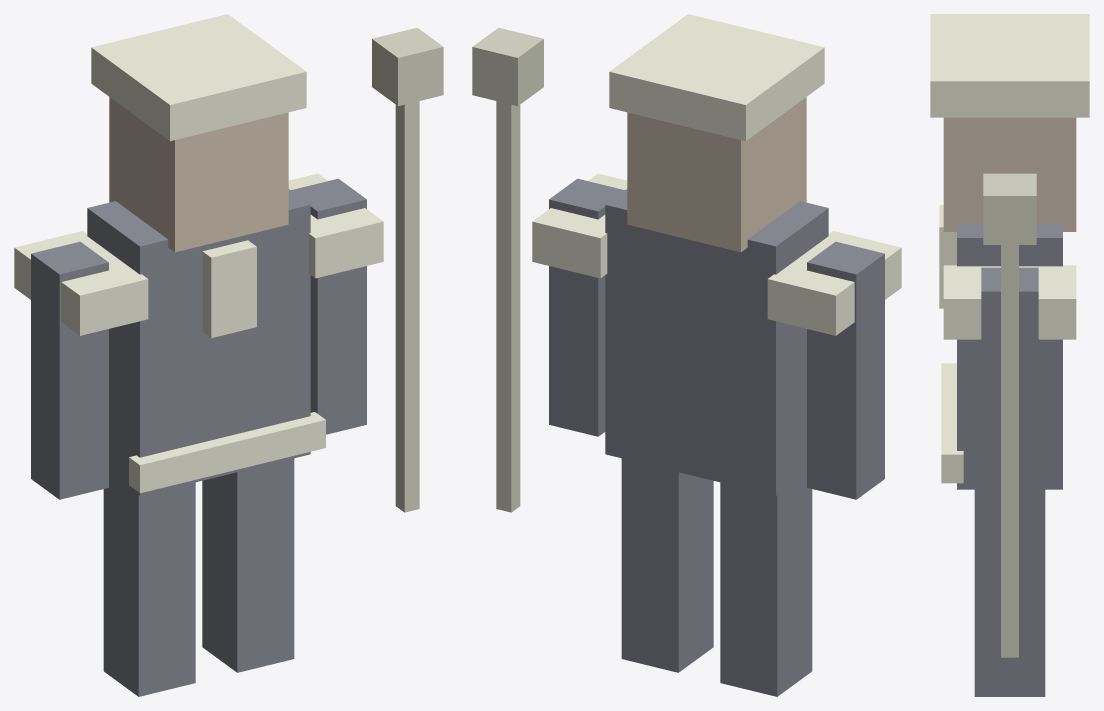
The model's file is 04_lio_mossguard_smith_near_breach.glb.
The picture shows the model from 3 angles, left to right: view 1: azimuth 30°, elevation 25°; view 2: azimuth 150°, elevation 25°; view 3: azimuth 270°, elevation 25°; orthographic projection.
Parts seen in each view (by area): view 1: Lio Mossguard, Smith near Breach; view 2: Lio Mossguard, Smith near Breach; view 3: Lio Mossguard, Smith near Breach.
Part boxes in pixels (<box>): Lio Mossguard, Smith near Breach: <box>14,14,443,696</box>; Lio Mossguard, Smith near Breach: <box>472,14,901,696</box>; Lio Mossguard, Smith near Breach: <box>930,14,1089,696</box>.
Bounding box in the file's own units: 1.06 × 1.59 × 0.3765.
